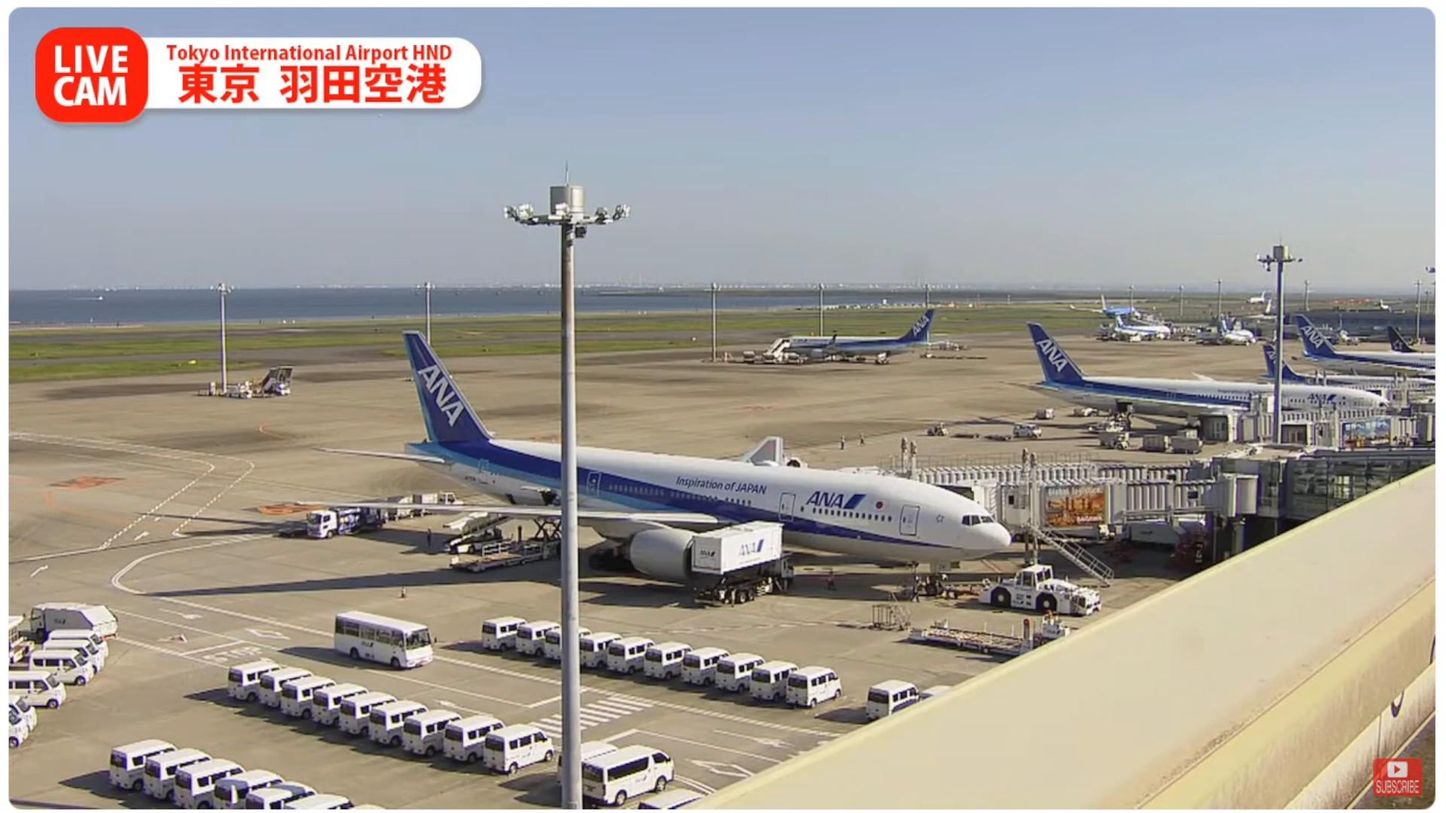APS: (982, 565, 1107, 615)
Aerobridge: (880, 463, 1198, 520), (990, 479, 1258, 539)
Airplane: (308, 328, 1018, 599)
Catering: (689, 519, 792, 611)
Dolly: (273, 486, 442, 537)
JCPL: (903, 609, 1073, 659), (480, 504, 562, 572)
Skyloader: (444, 505, 507, 558)
Tractor: (439, 487, 465, 513)
Window: (1281, 462, 1437, 524)
